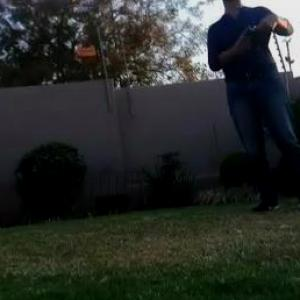follow: (203, 0, 299, 218)
